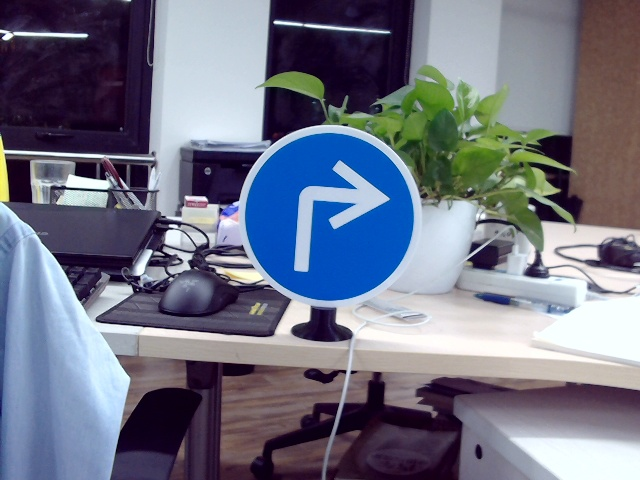turn_right: (287, 154, 385, 273)
